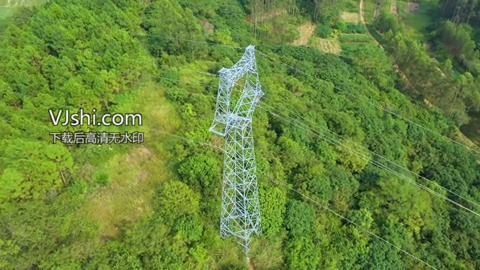tower_body: (200, 40, 270, 252)
tower_foot: (218, 194, 269, 248)
tower_head: (203, 43, 266, 136)
